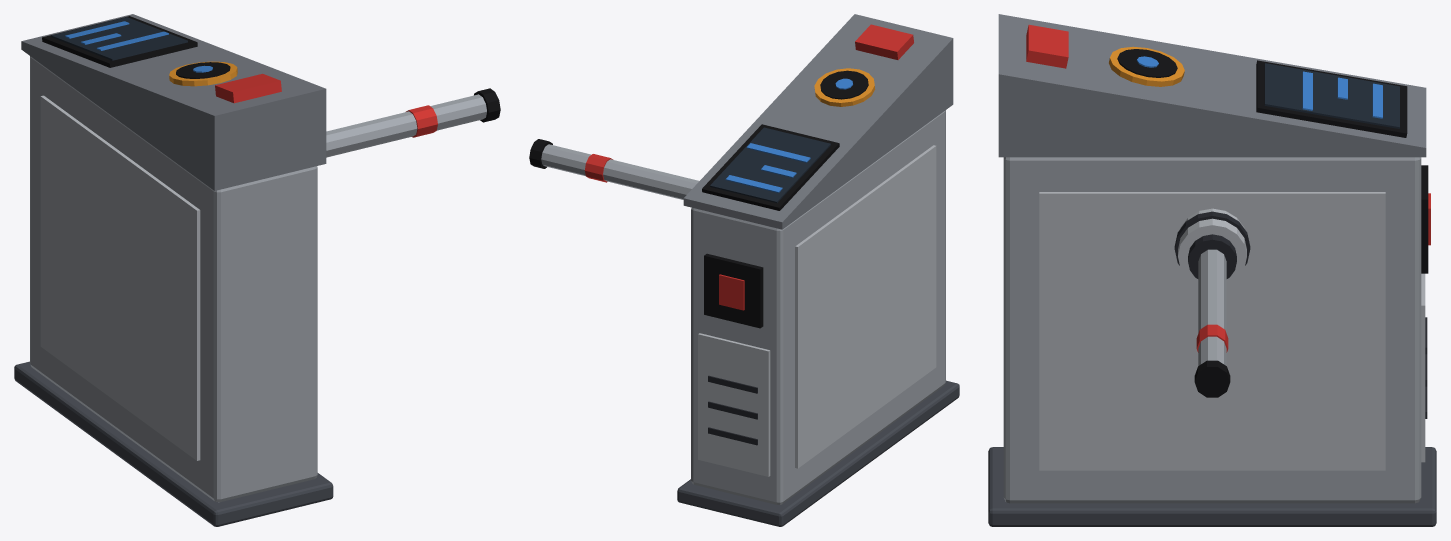
Rendered from ticket_gate.obj.
The picture shows the model from 3 angles, left to right: view 1: azimuth 30°, elevation 25°; view 2: azimuth 150°, elevation 25°; view 3: azimuth 270°, elevation 25°; orthographic projection. The views are drawn at different scales.
Visible parts, largest first — view 1: ticket_gate; view 2: ticket_gate; view 3: ticket_gate.
Part boxes in pixels (x1,y1,x2,y2): ticket_gate: (14,14,500,526); ticket_gate: (529,14,959,526); ticket_gate: (988,14,1436,526).
Size of the model in its own units: 0.95 by 0.9942 by 0.88.
